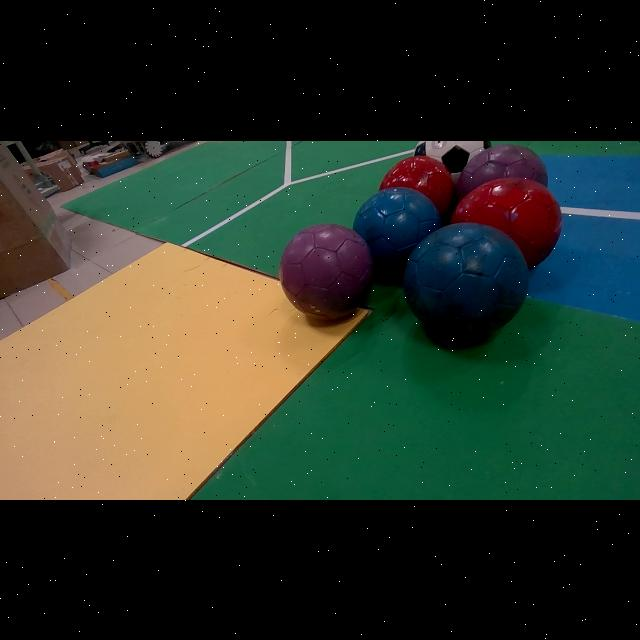B: (404, 222, 529, 338), (353, 186, 443, 275)
P: (280, 223, 375, 319), (456, 143, 548, 202)
R: (451, 177, 562, 268), (379, 154, 453, 216)
